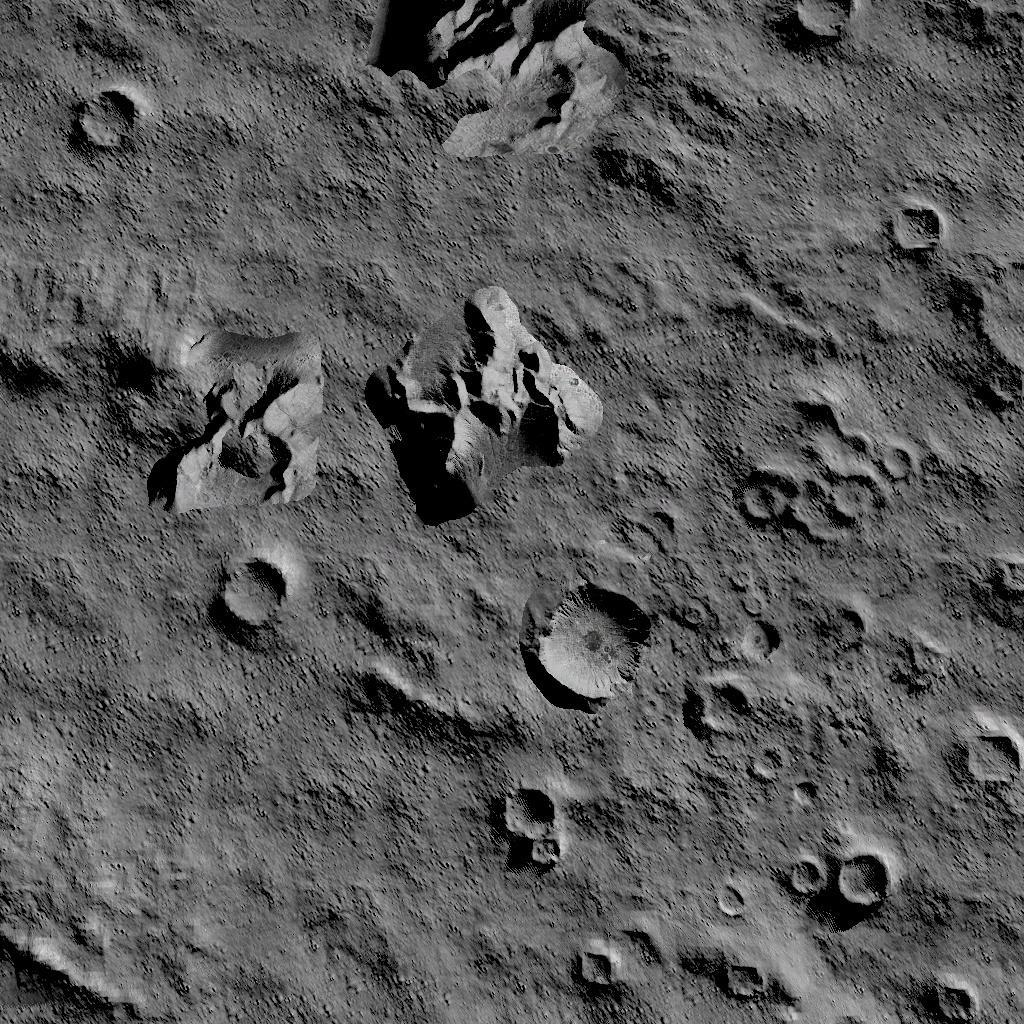Boulders: (362, 283, 600, 524), (363, 0, 639, 163), (104, 326, 317, 514)
Crater: (734, 402, 910, 550), (524, 583, 654, 708), (948, 264, 1024, 415), (210, 555, 288, 636), (779, 856, 885, 912), (493, 788, 565, 870), (66, 91, 142, 158), (680, 685, 754, 745), (952, 732, 1020, 793), (878, 202, 943, 257), (781, 1, 850, 51), (712, 957, 772, 1004), (922, 984, 980, 1024), (572, 946, 620, 994), (980, 554, 1024, 604), (733, 624, 778, 672), (714, 883, 756, 916), (738, 752, 781, 782), (782, 788, 814, 816)
Plan surface: (3, 752, 475, 968), (155, 0, 349, 312), (3, 536, 191, 744), (677, 82, 1024, 192)
